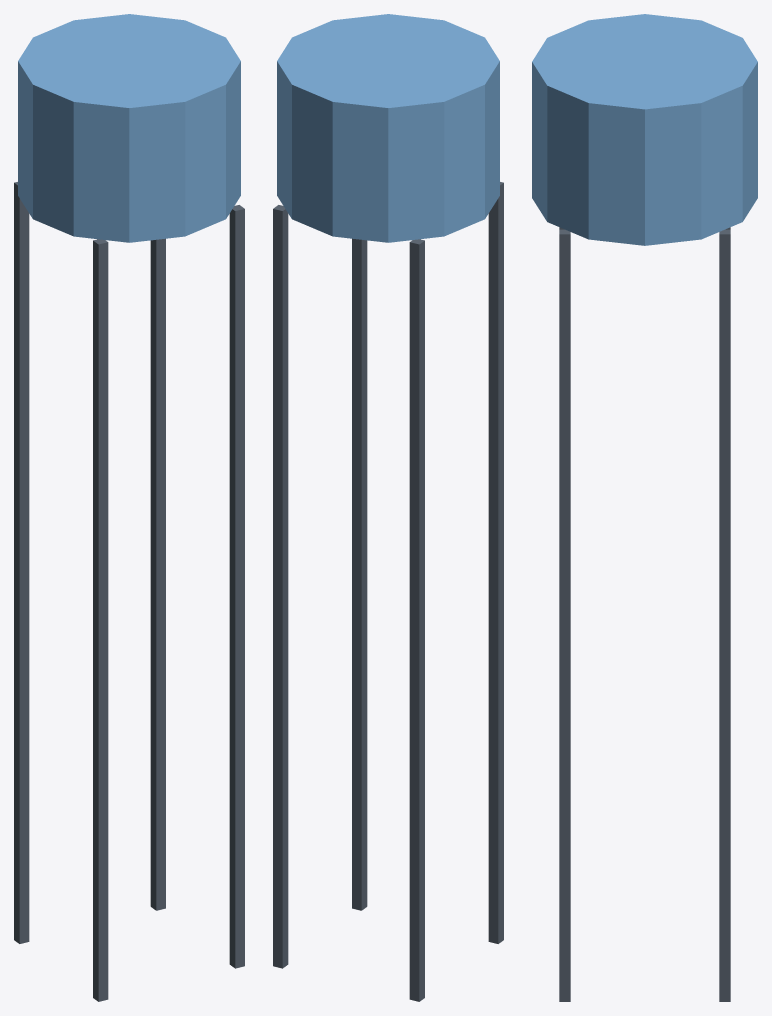
The model's file is prop_menara_air.fbx.
3 renders of one model, left to right at view 1: azimuth 30°, elevation 25°; view 2: azimuth 150°, elevation 25°; view 3: azimuth 270°, elevation 25°, orthographic.
Parts seen in each view (by area): view 1: prop_menara_air; view 2: prop_menara_air; view 3: prop_menara_air.
Part boxes in pixels (x1=…): prop_menara_air: x1=14, y1=14, x2=244, y2=1001; prop_menara_air: x1=273, y1=14, x2=503, y2=1001; prop_menara_air: x1=532, y1=14, x2=757, y2=1001.
Bounding box in the file's own units: 240 × 1060 × 240.
1 material, 1 textured.
